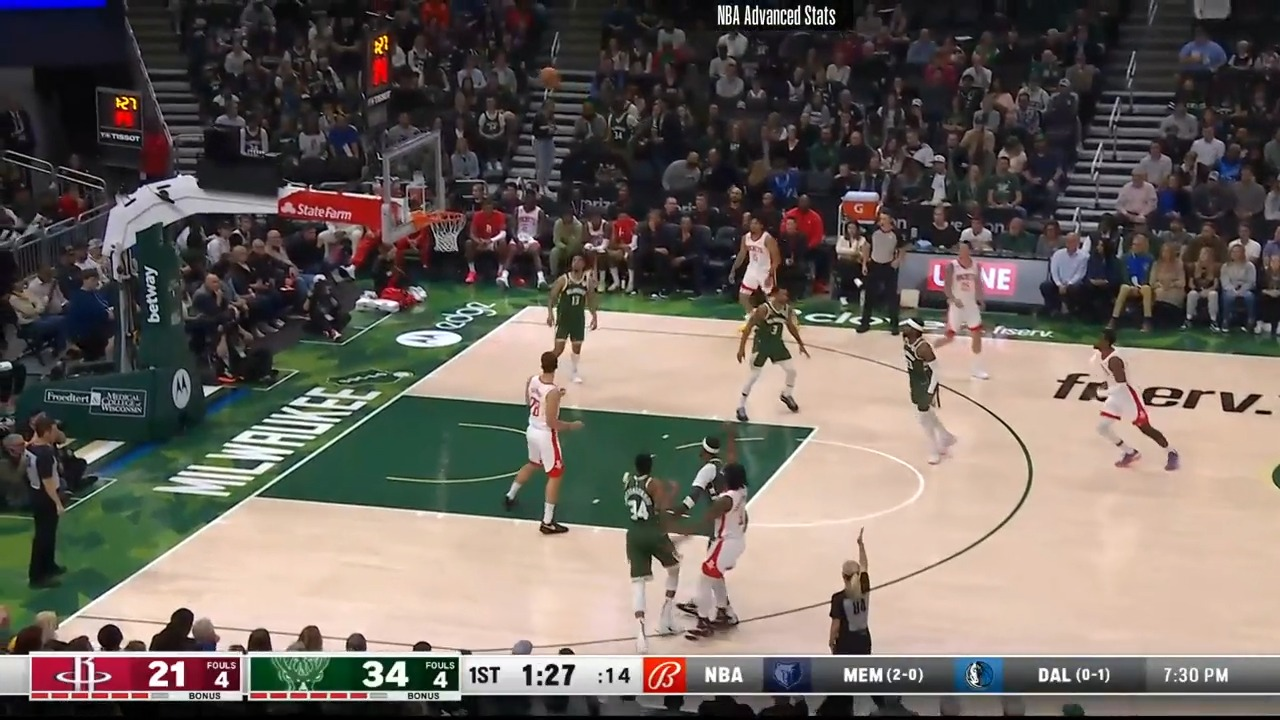net: (410, 205, 475, 259)
player: (1059, 331, 1180, 474), (502, 350, 584, 538), (620, 451, 691, 647), (686, 459, 752, 641), (729, 286, 810, 427), (930, 238, 1004, 381), (901, 319, 963, 464), (542, 249, 604, 386), (661, 424, 738, 531), (729, 214, 783, 329)
referee: (16, 412, 68, 594), (827, 522, 886, 658), (852, 210, 905, 338)
